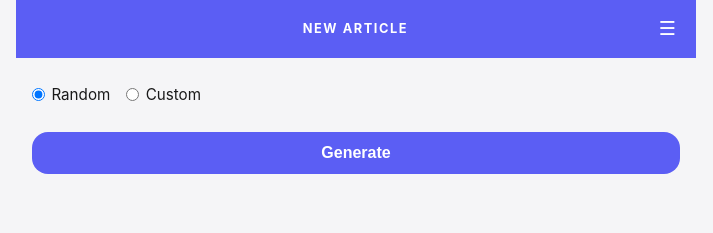
Scenario: NewArticlePage status messages › shows error status message when generate fails
Click the button "Generate".
click(356, 153)  # box x1=32 y1=132 x2=680 y2=174
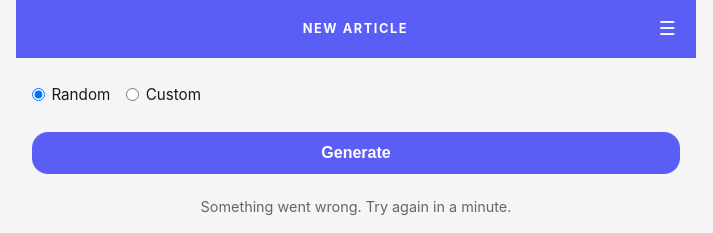
Check: the text "Something went wrong. Try again in a minute." is shown, box x1=201 y1=198 x2=512 y2=215
